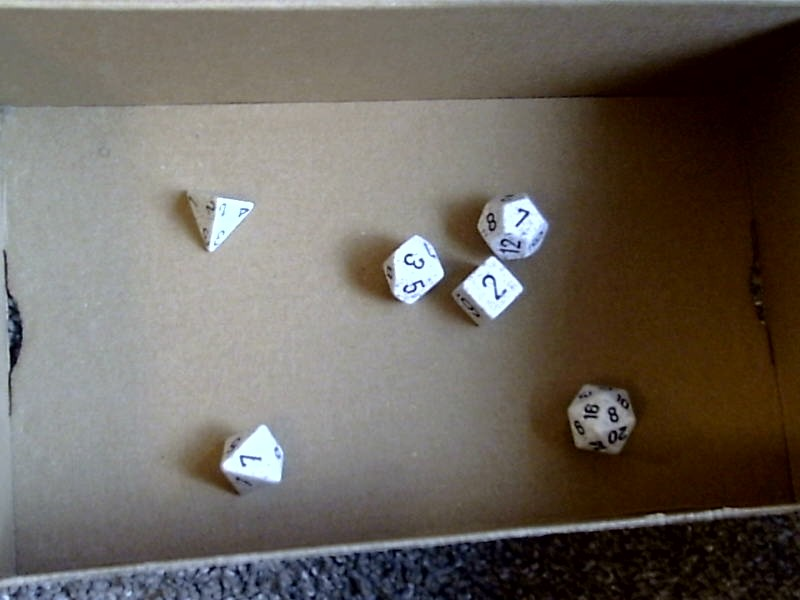d10 3: (371, 224, 450, 314)
d12 7: (471, 184, 553, 264)
d20 8: (558, 377, 644, 467)
d4 2: (172, 181, 265, 266)
d6 2: (449, 254, 527, 331)
d8 7: (210, 416, 293, 506)
